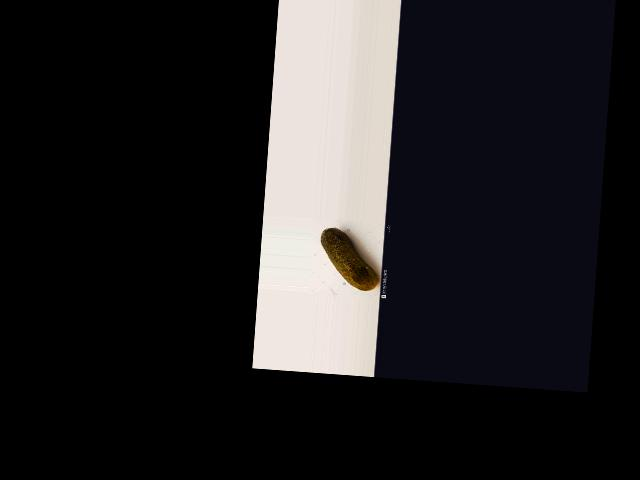cucumber: (317, 226, 381, 291)
